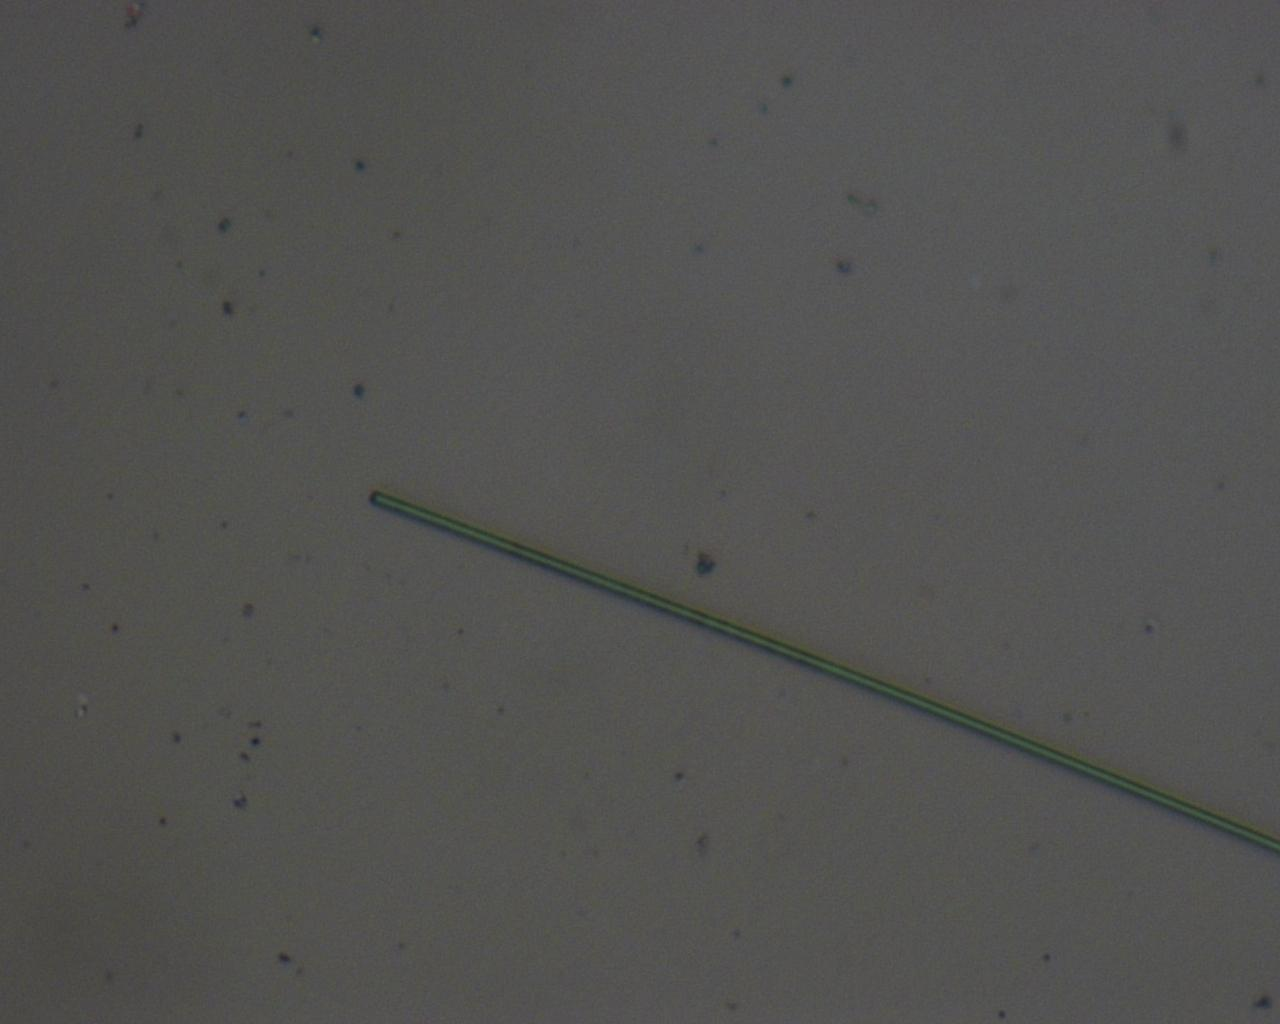fiber: (812, 637, 1280, 1024), (296, 491, 555, 1024), (793, 160, 1280, 390), (113, 0, 280, 491)
